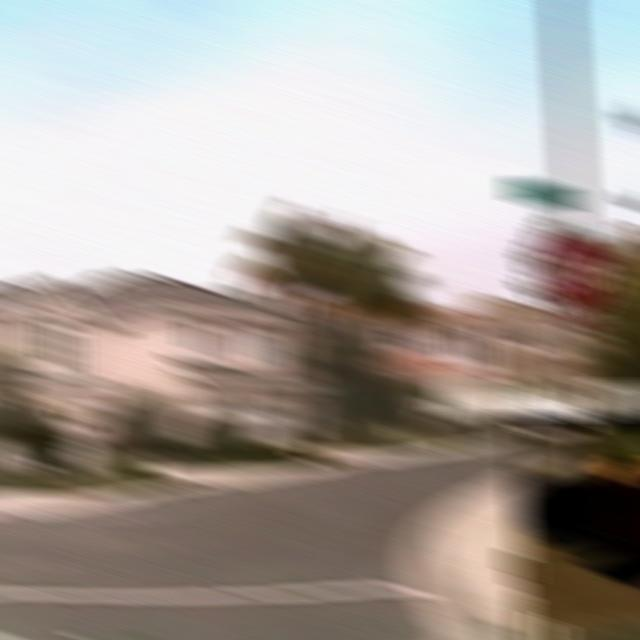stop: (543, 231, 615, 314)
